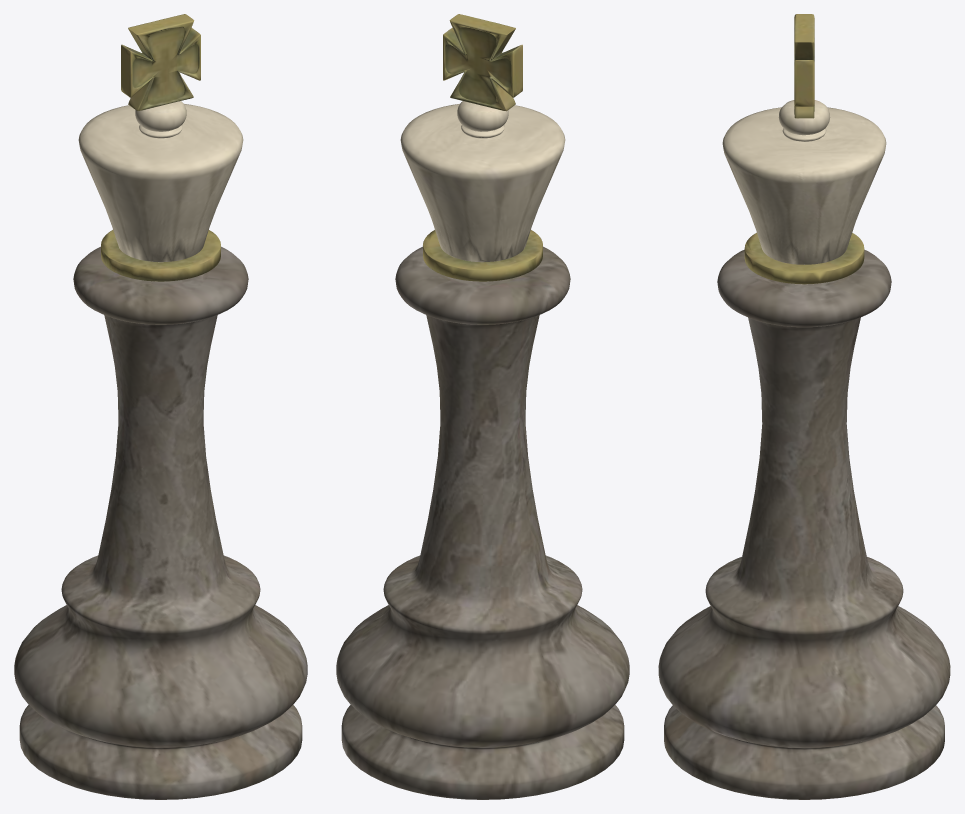
Rendered from ChessKing.glb.
The picture shows the model from 3 angles, left to right: view 1: azimuth 30°, elevation 25°; view 2: azimuth 150°, elevation 25°; view 3: azimuth 270°, elevation 25°; orthographic projection.
Visible parts, largest first — view 1: King_W; view 2: King_W; view 3: King_W.
Boxes of the visible parts, x1,y1,x2,y2 form: King_W: (14, 14, 307, 799); King_W: (336, 14, 629, 799); King_W: (658, 14, 950, 799).
Size of the model in its own units: 0.0561 by 0.1515 by 0.0561.
1 material, 1 textured.
